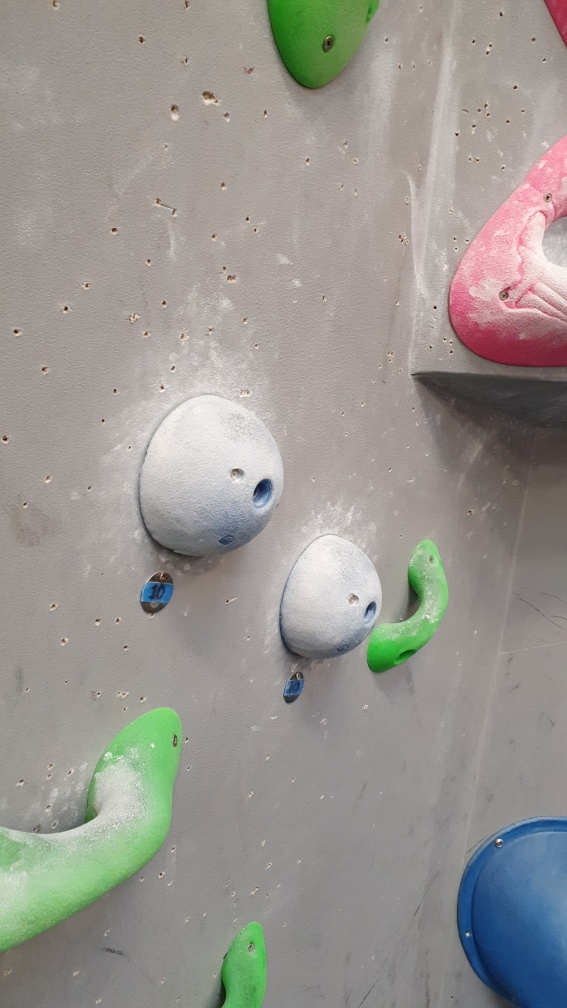Hand Start: (137, 566, 176, 617), (279, 670, 305, 703)
Pocket: (442, 126, 567, 372)
Sloper: (137, 389, 284, 555), (280, 529, 384, 667)
